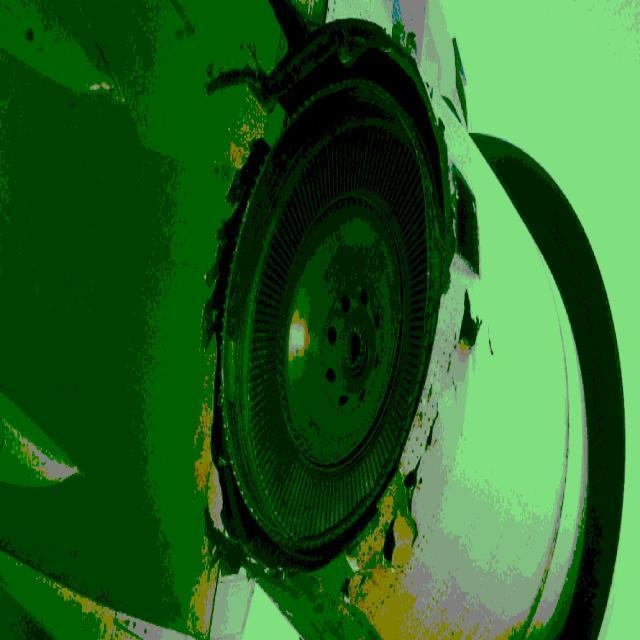crack: (336, 288, 486, 611)
